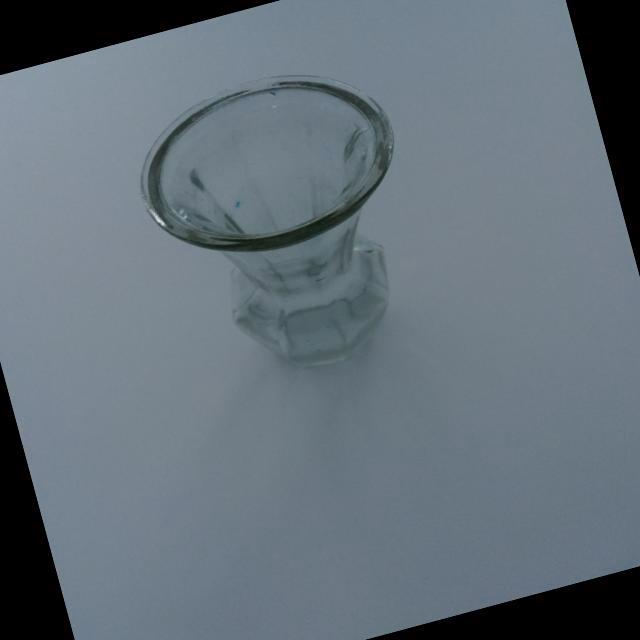glass: (107, 34, 470, 422)
